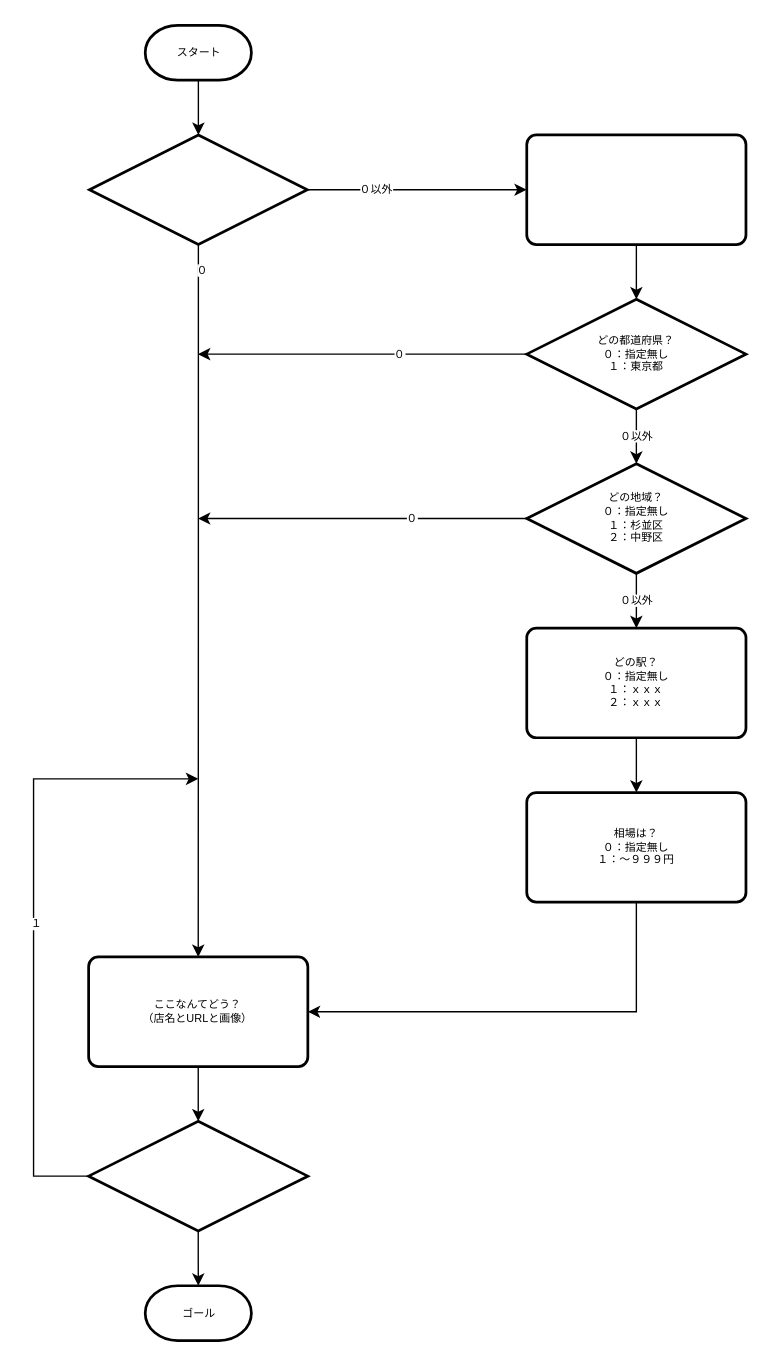
The diagram is 771 pixels wide and 1365 high, and some of its shapes have lost their labels. Here are the shapes that lost their labels. From the top down, the box of each, then its label:
(87, 133, 308, 245): 何が食べたい？ ０：指定無し １：ラーメン
(525, 133, 747, 245): どういった味がいい？ ０：指定無し １：しょうゆ ・・・
(87, 1119, 309, 1232): 他の候補も見る？ ０：いいえ １：はい
